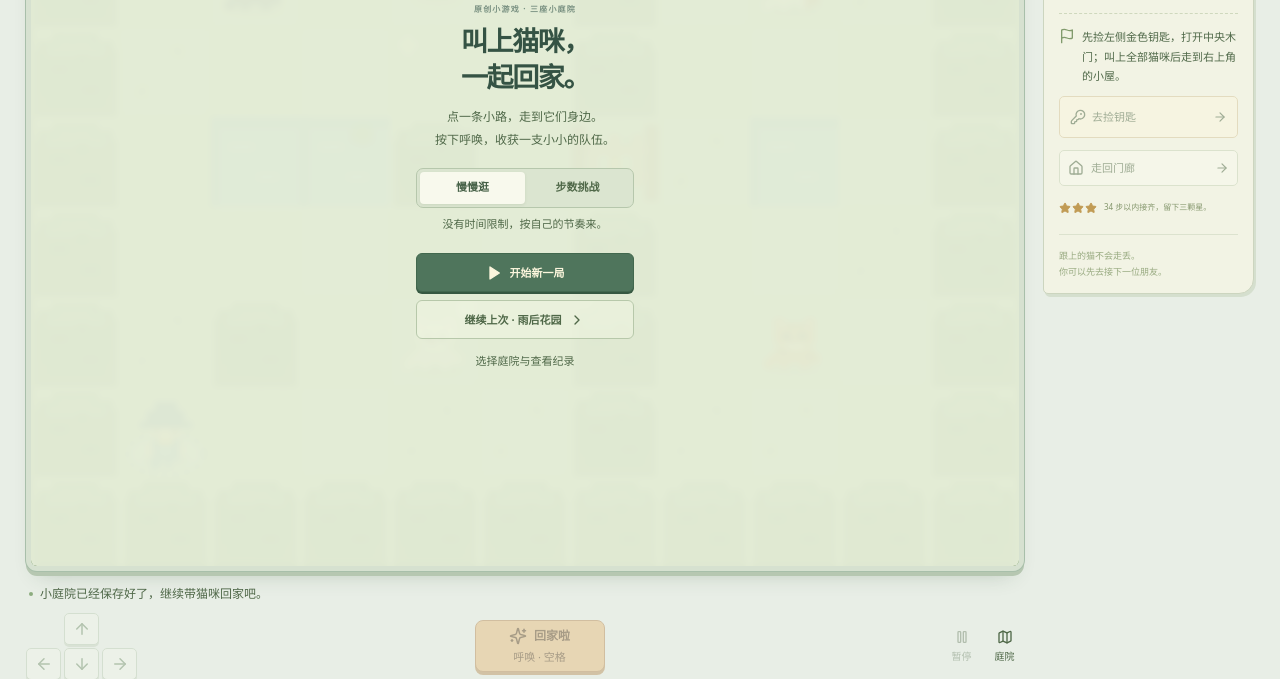
Scenario: courtyard controls and lifecycle › offers a native focusable key shortcut that opens the third garden without changing its route cost
(page scrolled)
Expected: the button "去捡钥匙" is disabled, [1059,96,1238,138]
Click the button "继续上次 · 雨后花园" at (525, 320), box [416,300,634,339]
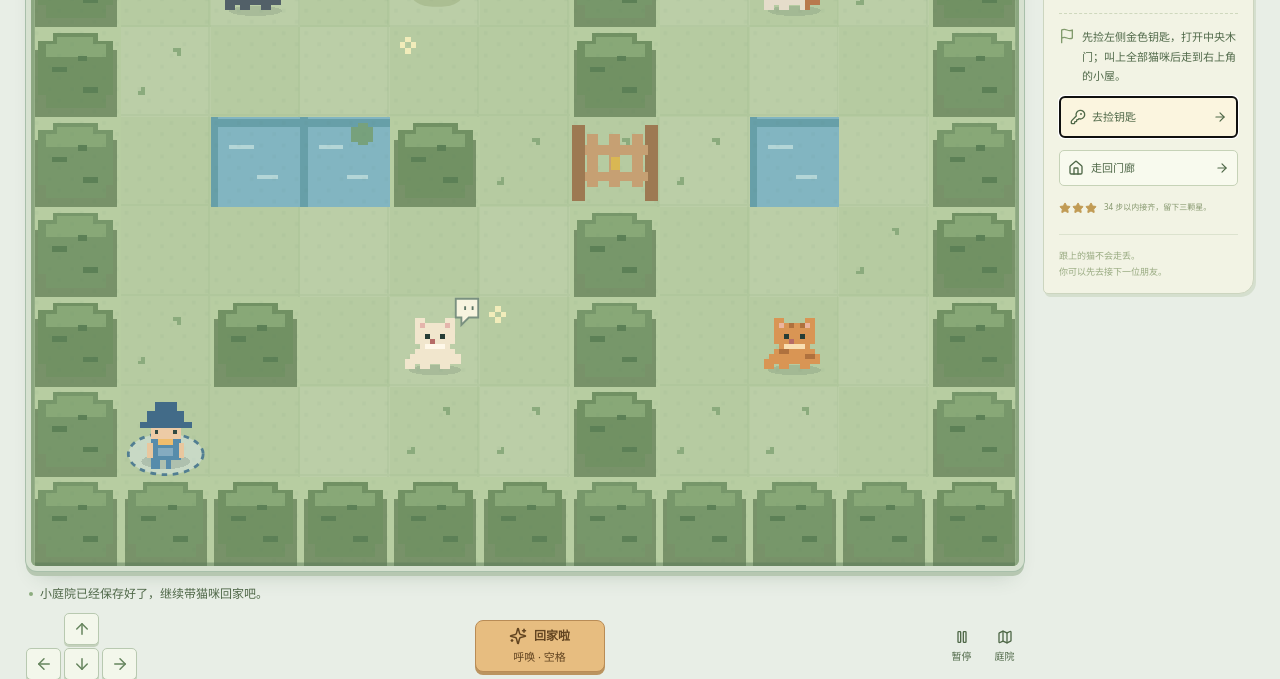
Press Enter in the button "去捡钥匙", box [1059,96,1238,138]
Click the button "去捡钥匙" at (1148, 117), box [1059,96,1238,138]
Wait 3000 ms
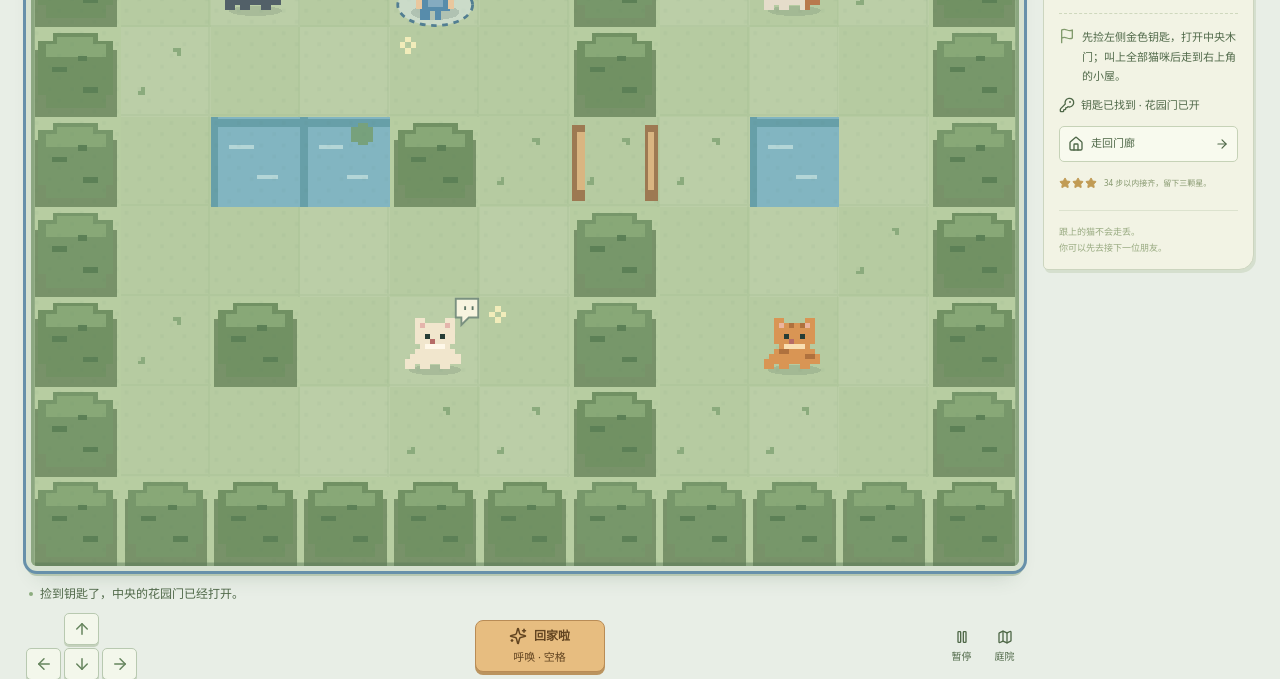
Now the text "钥匙已找到 · 花园门已开" is shown, box [1081,96,1200,114]
Now the button "去捡钥匙" is gone
